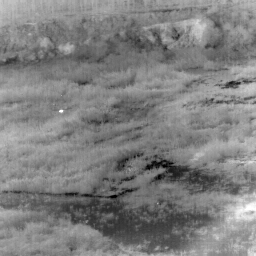aircraft: (60, 110, 62, 112)
